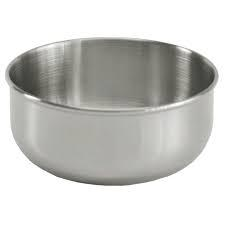Sponge Bowl: (3, 33, 222, 186)
